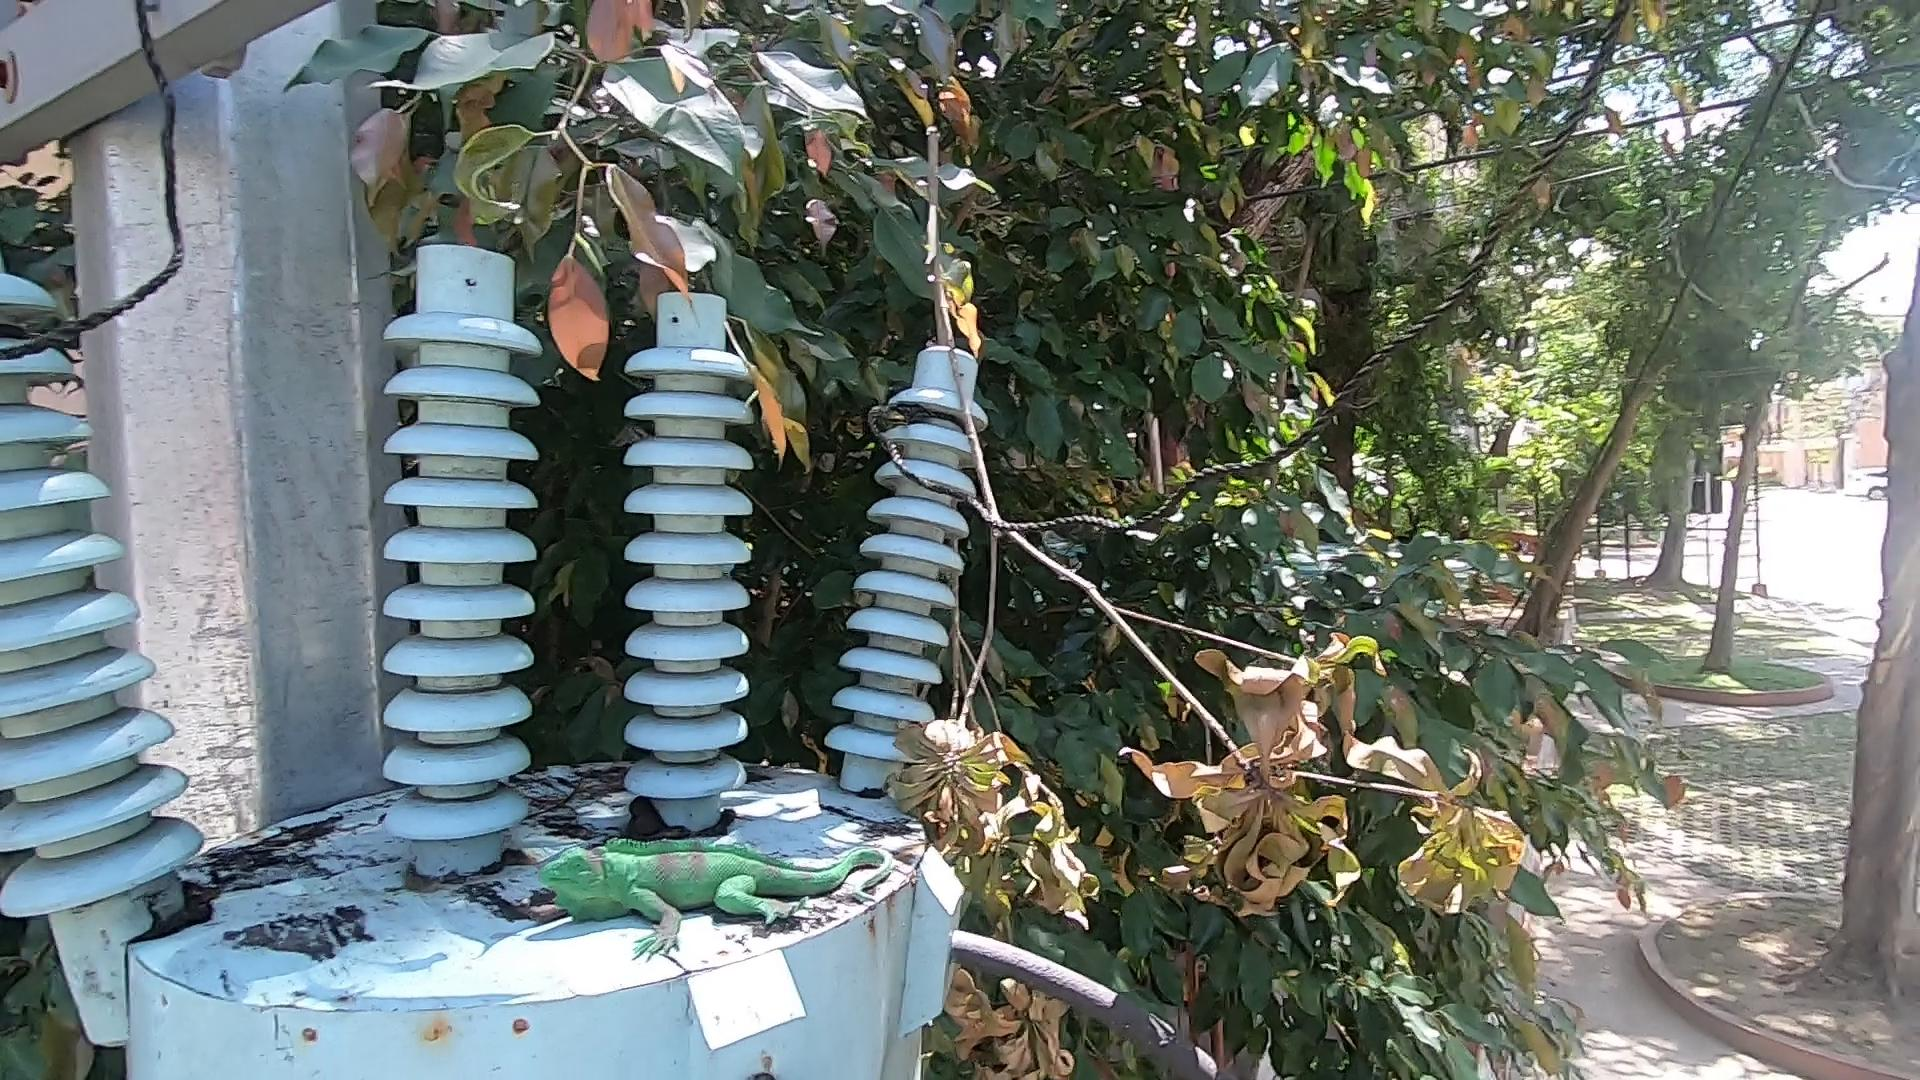branch with leaves: (897, 120, 1539, 1063)
leaf: (617, 794, 666, 831), (516, 895, 559, 928), (694, 804, 744, 831)
tree branch: (535, 767, 593, 822)
